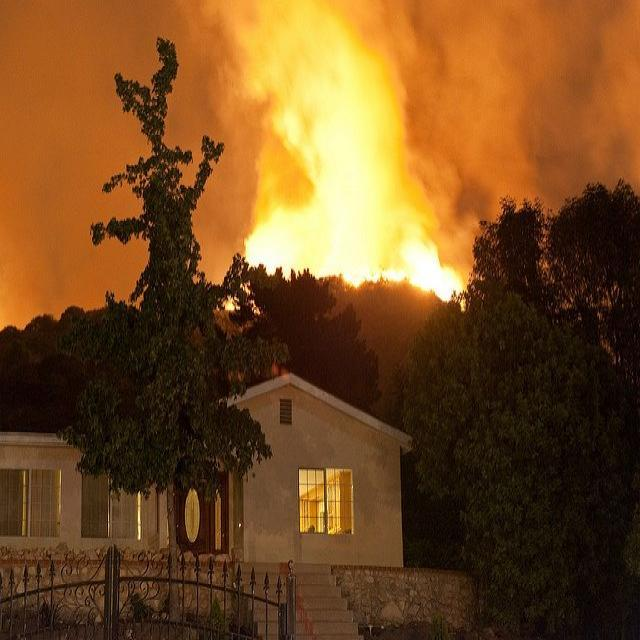Fire: (226, 232, 458, 302)
Smoke: (194, 0, 437, 226)
